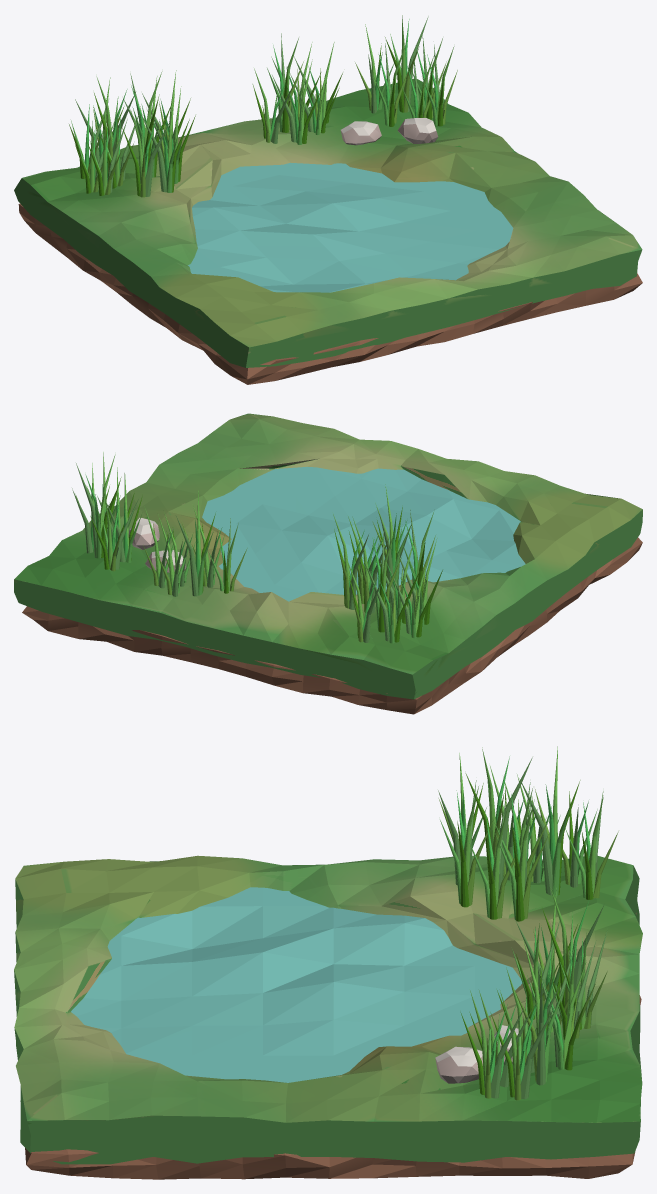
3 renders of one model, top to bottom at view 1: azimuth 30°, elevation 25°; view 2: azimuth 150°, elevation 25°; view 3: azimuth 270°, elevation 25°, orthographic. The views are drawn at different scales.
Parts seen in each view (by area): view 1: waterland, water, ground.003, stone.018, stone.017; view 2: waterland, water, ground.003, stone.018; view 3: waterland, water, ground.003, stone.018, Cone.119, Cone.011.
Boxes of the visible parts, x1=… form: waterland: x1=14, y1=78, x2=642, y2=367; water: x1=188, y1=162, x2=513, y2=292; ground.003: x1=18, y1=203, x2=642, y2=384; stone.018: x1=397, y1=118, x2=438, y2=143; stone.017: x1=340, y1=121, x2=381, y2=145; waterland: x1=14, y1=413, x2=642, y2=699; water: x1=202, y1=466, x2=525, y2=601; ground.003: x1=22, y1=537, x2=642, y2=714; stone.018: x1=128, y1=517, x2=159, y2=549; waterland: x1=14, y1=855, x2=642, y2=1164; water: x1=71, y1=887, x2=522, y2=1082; ground.003: x1=25, y1=913, x2=641, y2=1179; stone.018: x1=435, y1=1046, x2=482, y2=1083; Cone.119: x1=519, y1=778, x2=552, y2=895; Cone.011: x1=536, y1=977, x2=545, y2=1085.
Size of the model in its own units: 1018 by 420 by 1016.
149 materials, 1 textured.
